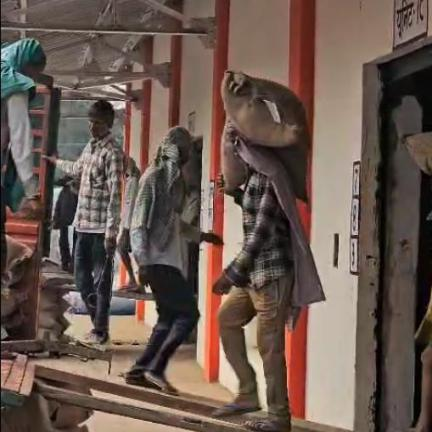Zone-Counting: (212, 70, 324, 431)
